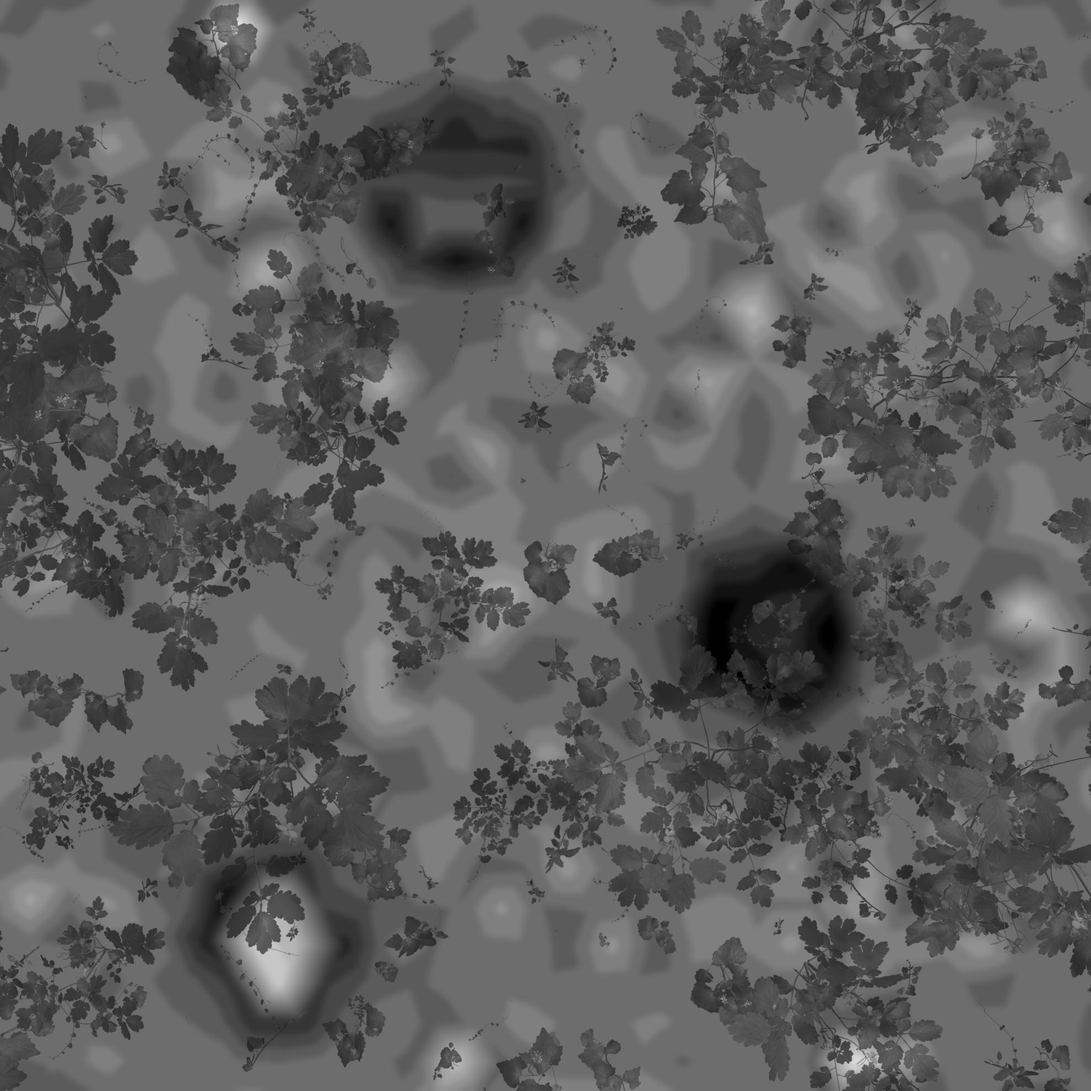landmine: (358, 107, 566, 291), (688, 550, 851, 718), (189, 867, 345, 1030)
